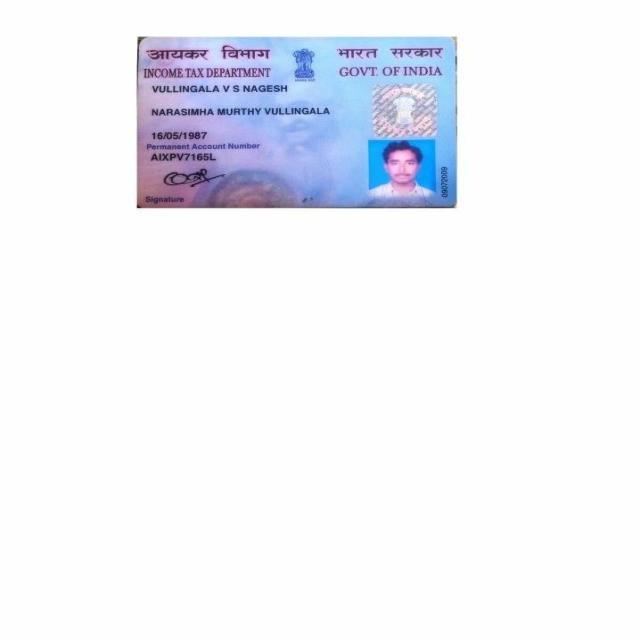pan_card: (135, 36, 458, 209)
